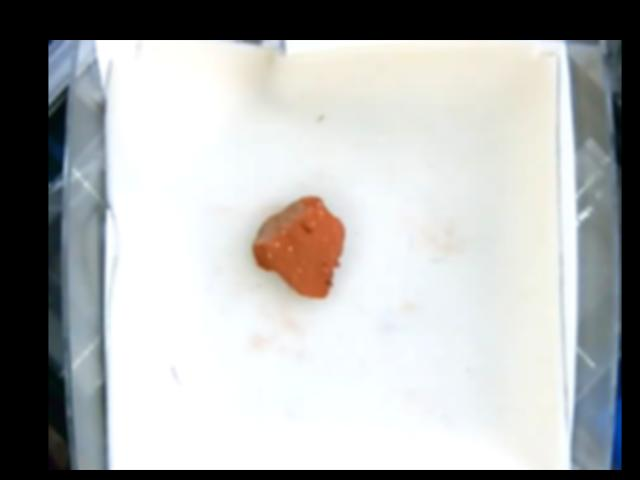Brisk: (253, 195, 346, 299)
